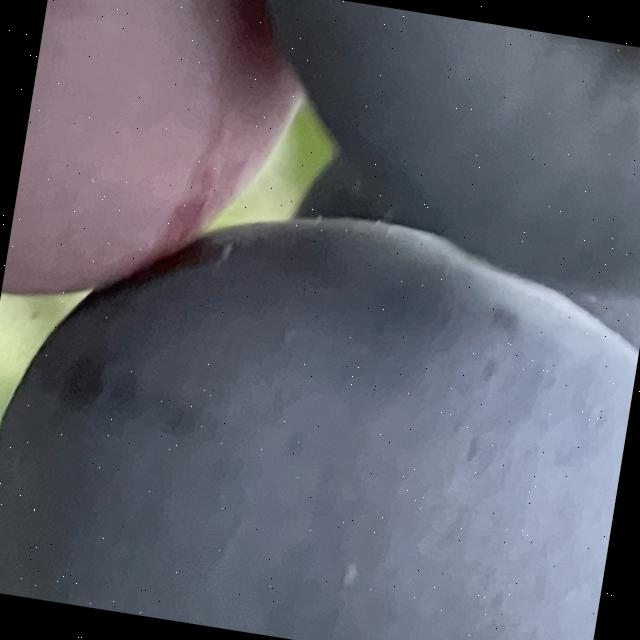Blueberries: (0, 161, 640, 640), (184, 0, 640, 293), (1, 0, 297, 326)
